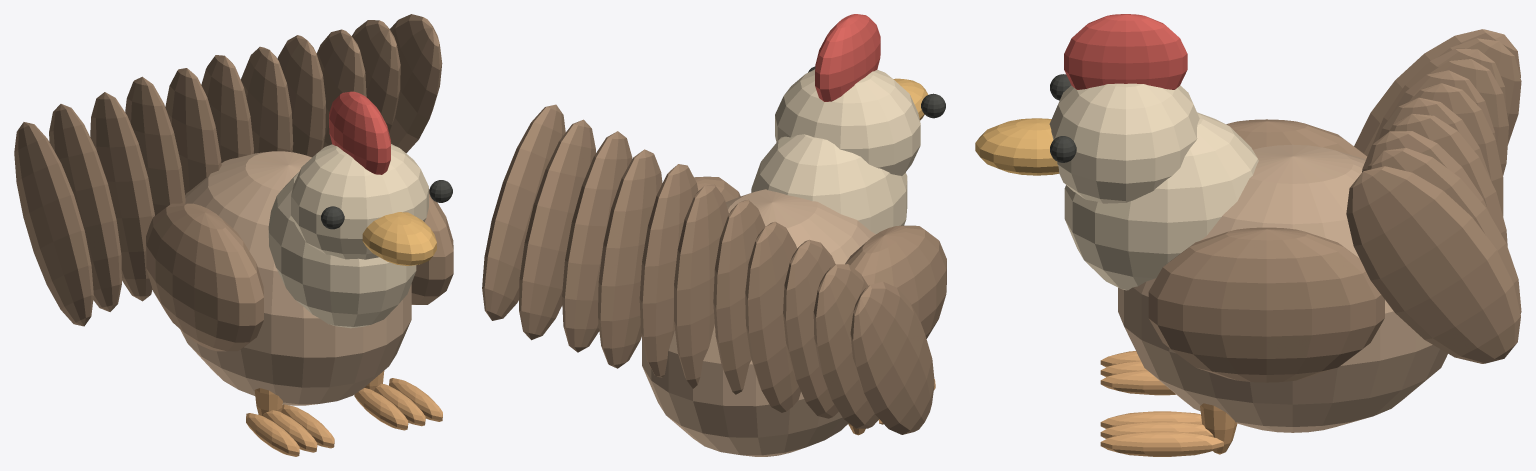
The model's file is shire_hen_animated.glb.
The picture shows the model from 3 angles, left to right: view 1: azimuth 30°, elevation 25°; view 2: azimuth 150°, elevation 25°; view 3: azimuth 270°, elevation 25°; orthographic projection. The views are drawn at different scales.
Parts seen in each view (by area): view 1: Batched_wing_and_tail, Feather_body, Batched_pale_neck, Wing_flap_animated, Batched_feet_and_claws, Comb, Beak, Wing_flap_animated.001, Batched_dark_eyes; view 2: Batched_wing_and_tail, Batched_pale_neck, Feather_body, Wing_flap_animated, Comb, Wing_flap_animated.001, Beak, Batched_dark_eyes; view 3: Batched_wing_and_tail, Batched_pale_neck, Wing_flap_animated.001, Feather_body, Batched_feet_and_claws, Comb, Beak, Wing_flap_animated, Batched_dark_eyes.
Boxes of the visible parts, x1,y1,x2,y2 form: Batched_wing_and_tail: (14, 14, 442, 326); Feather_body: (180, 151, 411, 405); Batched_pale_neck: (268, 144, 428, 328); Wing_flap_animated: (146, 203, 263, 351); Batched_feet_and_claws: (246, 371, 442, 456); Comb: (329, 91, 390, 174); Beak: (362, 212, 436, 265); Wing_flap_animated.001: (411, 189, 453, 304); Batched_dark_eyes: (321, 180, 452, 229); Batched_wing_and_tail: (482, 104, 934, 434); Batched_pale_neck: (751, 69, 920, 233); Feather_body: (642, 189, 875, 456); Wing_flap_animated: (845, 225, 946, 338); Comb: (815, 14, 880, 101); Wing_flap_animated.001: (694, 176, 740, 201); Beak: (893, 78, 928, 120); Batched_dark_eyes: (808, 66, 945, 118); Batched_wing_and_tail: (1346, 29, 1521, 363); Batched_pale_neck: (1049, 83, 1258, 290); Wing_flap_animated.001: (1148, 227, 1384, 382); Feather_body: (1118, 144, 1447, 432); Batched_feet_and_claws: (1100, 351, 1237, 456); Comb: (1064, 14, 1187, 89); Beak: (975, 118, 1059, 175); Wing_flap_animated: (1226, 119, 1367, 158); Batched_dark_eyes: (1050, 74, 1076, 162).
Size of the model in its own units: 0.9656 by 0.87 by 1.05.
